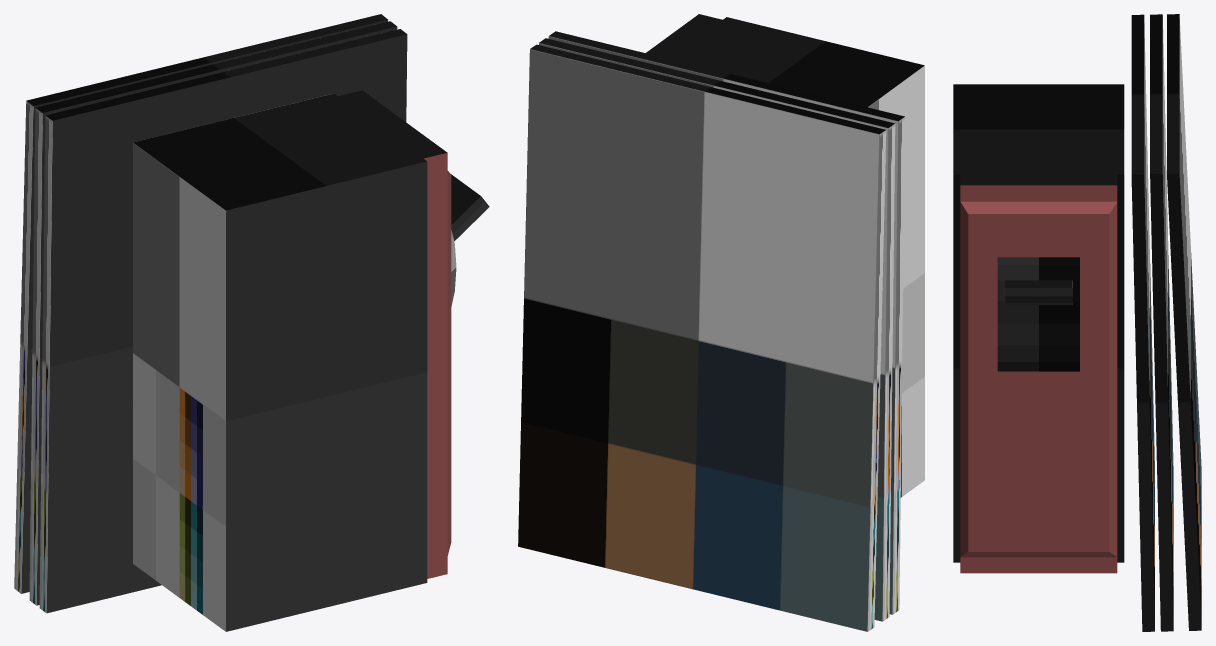
The model's file is ItemKitCircuitBreakerSmall.fbx.
3 renders of one model, left to right at view 1: azimuth 30°, elevation 25°; view 2: azimuth 150°, elevation 25°; view 3: azimuth 270°, elevation 25°, orthographic. The views are drawn at different scales.
Visible parts, largest first — view 1: ItemKitCircuitBreakerSmall; view 2: ItemKitCircuitBreakerSmall; view 3: ItemKitCircuitBreakerSmall.
Boxes of the visible parts, x1,y1,x2,y2 form: ItemKitCircuitBreakerSmall: (14,14,489,631); ItemKitCircuitBreakerSmall: (518,14,924,631); ItemKitCircuitBreakerSmall: (953,14,1201,631).
Bounding box in the file's own units: 0.3432 × 0.4432 × 0.2177.
